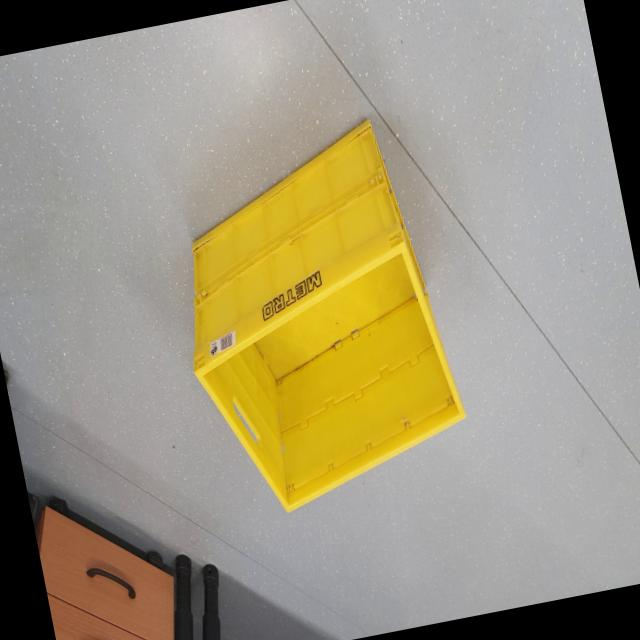box: (132, 88, 502, 555)
